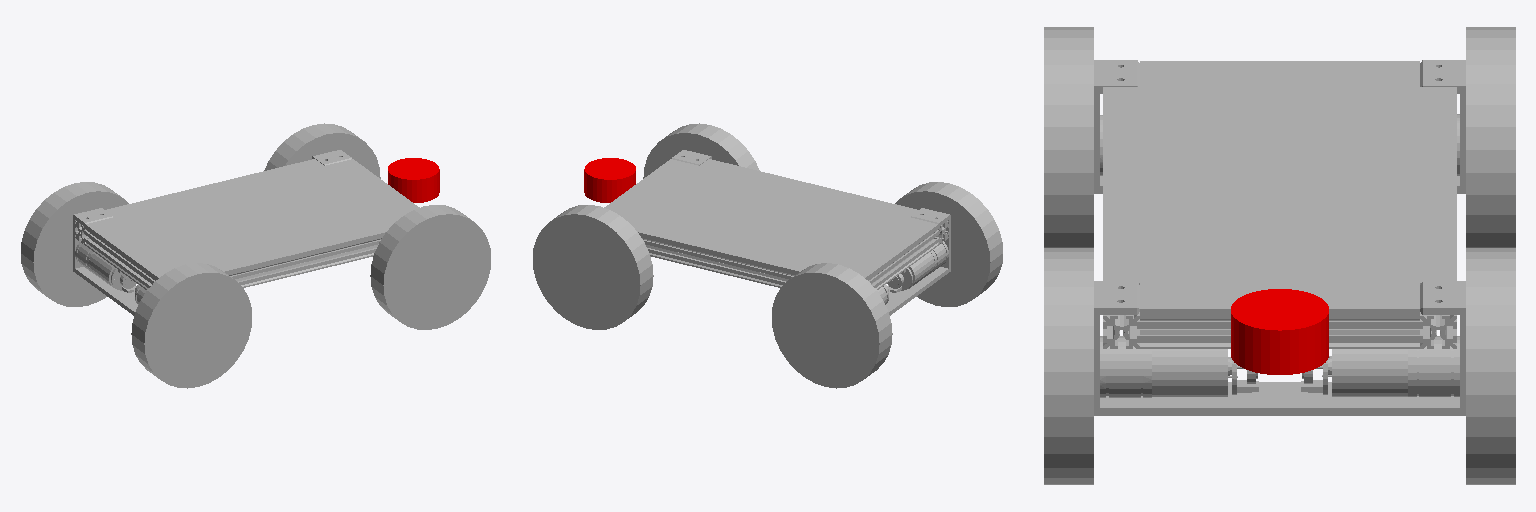
robot.urdf — robot_description:
<?xml version="1.0" encoding="utf-8"?>

<robot name="robot_description">

<material name="red">
  <color rgba="1.0 0.0 0.0 1.0"/>
</material>

<!-- %%%%%%%%%%%%%%%%%%%%%%%%%%%% LINKS %%%%%%%%%%%%%%%%%%%%%%%%%%%% -->
  <!-- %%%%%%%%%%%%%%%%%%%%%%% BASE LINK %%%%%%%%%%%%%%%%%%%%%%% -->
    <link name="base_link">
      <inertial>
        <origin
          xyz="-1.5853E-16 5.2101E-17 -0.015636"
          rpy="0 0 0" />
        <mass
          value="0.36521" />
        <inertia
          ixx="0.00039748"
          ixy="-4.0792E-09"
          ixz="7.1512E-18"
          iyy="0.00072454"
          iyz="-1.3047E-18"
          izz="0.0010802" />
      </inertial>
      <visual>
        <origin
          xyz="0 0 0"
          rpy="0 0 0" />
        <geometry>
          <mesh
            filename="package://robot_description/meshes/base_link.STL" />
        </geometry>
        <material
          name="">
          <color
            rgba="0.75294 0.75294 0.75294 1" />
        </material>
      </visual>
      <collision>
        <origin
          xyz="0 0 0"
          rpy="0 0 0" />
        <geometry>
          <mesh
            filename="package://robot_description/meshes/base_link.STL" />
        </geometry>
      </collision>
    </link>
  <!-- %%%%%%%%%%%%%%%%%%%%% FR WHEEL LINK %%%%%%%%%%%%%%%%%%%%% -->
    <link name="fr_wheel_link">
      <inertial>
        <origin
          xyz="1.8041E-16 -0.011571 5.9328E-16"
          rpy="0 0 0" />
        <mass
          value="0.041912" />
        <inertia
          ixx="3.6789E-06"
          ixy="7.9409E-23"
          ixz="-2.3641E-21"
          iyy="3.5671E-06"
          iyz="8.8839E-22"
          izz="3.6789E-06" />
      </inertial>
      <visual>
        <origin
          xyz="0 0 0"
          rpy="1.5708 0 0" />
        <geometry>
          <cylinder radius="0.048" length="0.02" />
        </geometry>
        <material
          name="">
          <color
            rgba="0.75294 0.75294 0.75294 1" />
        </material>
      </visual>
      <collision>
        <origin
          xyz="0 0 0"
          rpy="1.5708 0 0" />
        <geometry>
          <cylinder radius="0.048" length="0.02" />
        </geometry>
      </collision>   
    </link>
  <!-- %%%%%%%%%%%%%%%%%%%%% FL WHEEL LINK %%%%%%%%%%%%%%%%%%%%% -->
    <link name="fl_wheel_link">
      <inertial>
        <origin
          xyz="5.4956E-15 0.011595 -7.8063E-16"
          rpy="0 0 0" />
        <mass
          value="0.041912" />
        <inertia
          ixx="3.6789E-06"
          ixy="-1.1316E-21"
          ixz="9.3084E-21"
          iyy="3.5669E-06"
          iyz="-6.9925E-22"
          izz="3.6789E-06" />
      </inertial>
      <visual>
        <origin
          xyz="0 0 0"
          rpy="1.5708 0 0" />
        <geometry>
          <cylinder radius="0.048" length="0.02" />
        </geometry>
        <material
          name="">
          <color
            rgba="0.75294 0.75294 0.75294 1" />
        </material>
      </visual>
      <collision>
        <origin
          xyz="0 0 0"
          rpy="1.5708 0 0" />
        <geometry>
          <cylinder radius="0.048" length="0.02" />
        </geometry>
      </collision>
    </link>
  <!-- %%%%%%%%%%%%%%%%%%%%% BR WHEEL LINK %%%%%%%%%%%%%%%%%%%%% -->
    <link name="br_wheel_link">
      <inertial>
        <origin
          xyz="5.7454E-15 -0.011499 -2.8103E-16"
          rpy="0 0 0" />
        <mass
          value="0.041912" />
        <inertia
          ixx="3.6789E-06"
          ixy="-5.9722E-22"
          ixz="9.4729E-21"
          iyy="3.5669E-06"
          iyz="-2.4485E-22"
          izz="3.6789E-06" />
      </inertial>
      <visual>
        <origin
          xyz="0 0 0"
          rpy="1.5708 0 0" />
        <geometry>
          <cylinder radius="0.048" length="0.02" />
        </geometry>
        <material
          name="">
          <color
            rgba="0.75294 0.75294 0.75294 1" />
        </material>
      </visual>
      <collision>
        <origin
          xyz="0 0 0"
          rpy="1.5708 0 0" />
        <geometry>
          <cylinder radius="0.048" length="0.02" />
        </geometry>
      </collision>
    </link>
  <!-- %%%%%%%%%%%%%%%%%%%%% BL WHEEL LINK %%%%%%%%%%%%%%%%%%%%% -->
    <link name="bl_wheel_link">
      <inertial>
        <origin
          xyz="1.1102E-16 0.011429 -1.6653E-16"
          rpy="0 0 0" />
        <mass
          value="0.041912" />
        <inertia
          ixx="3.6789E-06"
          ixy="-1.5032E-22"
          ixz="-2.9973E-21"
          iyy="3.5671E-06"
          iyz="1.1701E-21"
          izz="3.6789E-06" />
      </inertial>
      <visual>
        <origin
          xyz="0 0 0"
          rpy="1.5708 0 0" />
        <geometry>
          <cylinder radius="0.048" length="0.02" />
        </geometry>
        <material
          name="">
          <color
            rgba="0.75294 0.75294 0.75294 1" />
        </material>
      </visual>
      <collision>
        <origin
          xyz="0 0 0"
          rpy="1.5708 0 0" />
        <geometry>
          <cylinder radius="0.048" length="0.02" />
        </geometry>
      </collision>
    </link>

<!-- %%%%%%%%%%%%%%%%%%%%%%%%%%%% JOINTS %%%%%%%%%%%%%%%%%%%%%%%%%%%% -->
  <!-- %%%%%%%%%%%%%%%%%%%% FR WHEEL JOINT %%%%%%%%%%%%%%%%%%%% -->
    <joint name="fr_wheel_joint"
      type="fixed">
      <origin
        xyz="0.10615 -0.085325 -0.0303"
        rpy="0 0 0" />
      <parent
        link="base_link" />
      <child
        link="fr_wheel_link" />
      <axis
        xyz="0 1 0" />
    </joint>
  <!-- %%%%%%%%%%%%%%%%%%%%% FL WHEEL JOINT %%%%%%%%%%%%%%%%%%%%% -->
    <joint name="fl_wheel_joint"
      type="fixed">
      <origin
        xyz="0.10615 0.085325 -0.0303"
        rpy="0 0 0" />
      <parent
        link="base_link" />
      <child
        link="fl_wheel_link" />
      <axis
        xyz="0 1 0" />
    </joint>
  <!-- %%%%%%%%%%%%%%%%%%%%% BR WHEEL JOINT %%%%%%%%%%%%%%%%%%%%% -->
    <joint name="br_wheel_joint"
      type="fixed">
      <origin
        xyz="-0.10615 -0.085325 -0.0303"
        rpy="0 0 0" />
      <parent
        link="base_link" />
      <child
        link="br_wheel_link" />
      <axis
        xyz="0 1 0" />
    </joint>
  <!-- %%%%%%%%%%%%%%%%%%%%% BR WHEEL JOINT %%%%%%%%%%%%%%%%%%%%% -->
    <joint name="bl_wheel_joint"
      type="fixed">
      <origin
        xyz="-0.10615 0.085325 -0.0303"
        rpy="0 0 0" />
      <parent
        link="base_link" />
      <child
        link="bl_wheel_link" />
      <axis
        xyz="0 1 0" />
    </joint>

    <joint name="laser_joint"
      type="fixed">
      <origin
        xyz="0.14 0 0.001"
        rpy="0 0 0" />
      <parent
        link="base_link" />
      <child
        link="laser_frame" />
    </joint>

    <link name="laser_frame">
      <visual>
        <geometry>
          <cylinder radius="0.02" length="0.02"/>
        </geometry>
        <material name="red">
          
        </material>
      </visual>

      <collision>
        <geometry>
          <cylinder radius="0.02" length="0.02"/>
        </geometry>
      </collision>

      <inertial>
        <origin
          xyz="0 0 0"
          rpy="0 0 0" />
        <mass
          value="0.01" />
        <inertia
          ixx="3.6789E-06"
          ixy="-1.5032E-22"
          ixz="-2.9973E-21"
          iyy="3.5671E-06"
          iyz="1.1701E-21"
          izz="3.6789E-06" />
      </inertial>
    </link>

  <gazebo reference="laser_frame">
    <material>Gazebo/Red</material>

    <sensor name="laser" type="ray">
        <pose> 0 0 0 0 0 0 </pose>
        <visualize>false</visualize>
        <update_rate>10</update_rate>
        <ray>
            <scan>
                <horizontal>
                    <samples>360</samples>
                    <min_angle>-3.14</min_angle>
                    <max_angle>3.14</max_angle>
                </horizontal>
            </scan>
            <range>
                <min>0.3</min>
                <max>12</max>
            </range>
        </ray>
        <plugin name="laser_controller" filename="libgazebo_ros_laser.so">
            <topicName>/scan</topicName>
            <frameName>laser_frame</frameName>
        </plugin>
    </sensor>
  </gazebo>

  <gazebo>
    <plugin name="object_controller" filename="libgazebo_ros_planar_move.so">
      <commandTopic>cmd_vel</commandTopic>
      <odometryTopic>odom</odometryTopic>
      <odometryFrame>odom</odometryFrame>
      <odometryRate>100.0</odometryRate>
      <robotBaseFrame>base_link</robotBaseFrame>
      <publishTF>true</publishTF>
    </plugin>
  </gazebo>

</robot>

--- What the picture shows (computed from the rendered views, not written in the file) ---
The picture shows the robot from 3 angles, left to right: view 1: azimuth 30°, elevation 25°; view 2: azimuth 150°, elevation 25°; view 3: azimuth 270°, elevation 25°; orthographic projection.
Robot: robot_description — 6 links, 5 joints (5 fixed); root link base_link; default pose: every joint at zero.
Links seen in each view (by area): view 1: base_link, br_wheel_link, fr_wheel_link, bl_wheel_link, fl_wheel_link, laser_frame; view 2: base_link, bl_wheel_link, fl_wheel_link, br_wheel_link, fr_wheel_link, laser_frame; view 3: base_link, fr_wheel_link, fl_wheel_link, br_wheel_link, bl_wheel_link, laser_frame.
Boxes of the visible links, x1,y1,x2,y2 form: base_link: (73, 150, 419, 315); br_wheel_link: (131, 263, 251, 388); fr_wheel_link: (370, 205, 490, 329); bl_wheel_link: (21, 182, 128, 306); fl_wheel_link: (264, 123, 380, 178); laser_frame: (388, 158, 439, 202); base_link: (604, 150, 950, 315); bl_wheel_link: (772, 263, 892, 388); fl_wheel_link: (533, 205, 653, 329); br_wheel_link: (895, 182, 1002, 306); fr_wheel_link: (643, 123, 759, 178); laser_frame: (584, 158, 635, 202); base_link: (1094, 60, 1465, 415); fr_wheel_link: (1044, 248, 1093, 484); fl_wheel_link: (1466, 248, 1515, 484); br_wheel_link: (1044, 27, 1093, 247); bl_wheel_link: (1466, 27, 1515, 247); laser_frame: (1231, 289, 1328, 374).
Size in the robot's own frame: 0.3141 by 0.1907 by 0.096 metres.
Meshes: 1 distinct files referenced, 1 mesh visuals loaded (1 binary STL).
